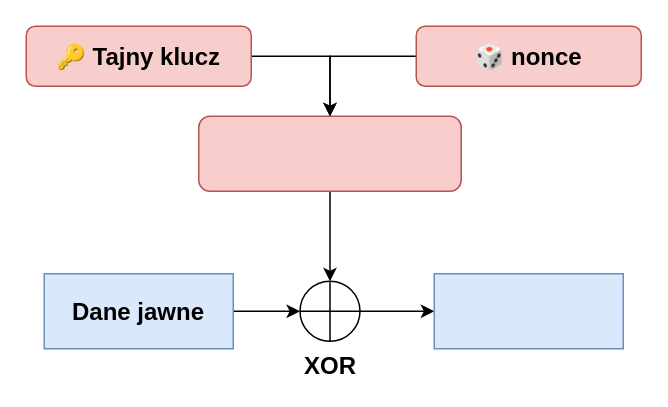
This 668x407 diagram has some shape labels left out. Here are the shapes that lost their labels. From the top down, the centre of each, then its label:
At point 329,153: "Strumień klucza (keystream)".
At point 528,310: "Szyfrogram".
